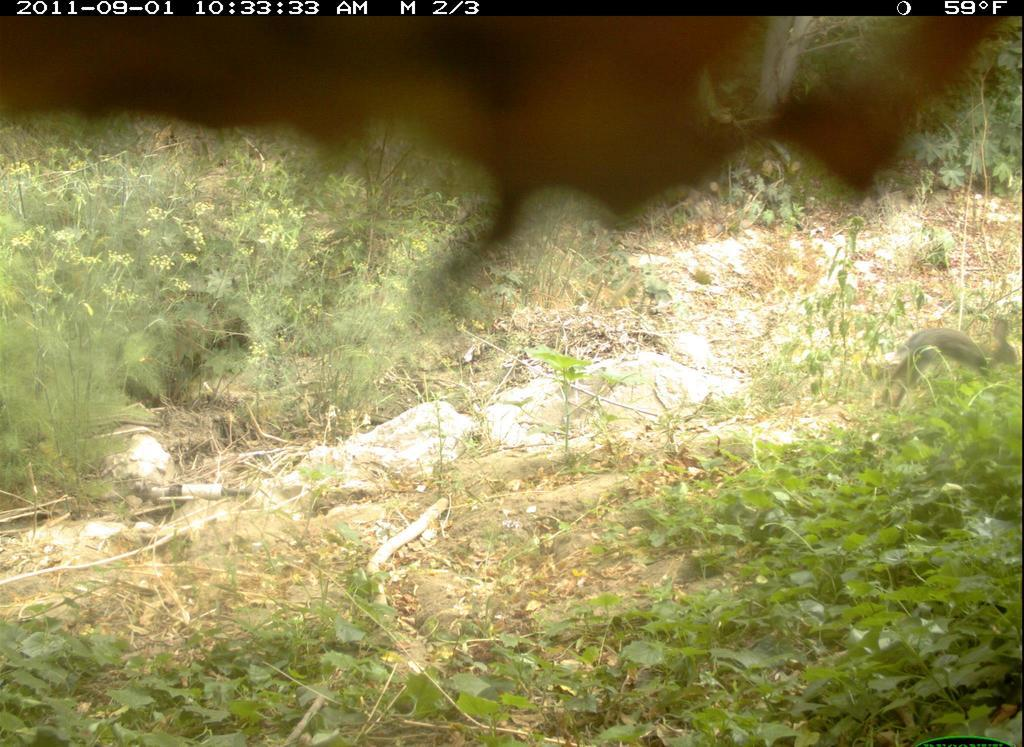rabbit: (867, 315, 1019, 415)
